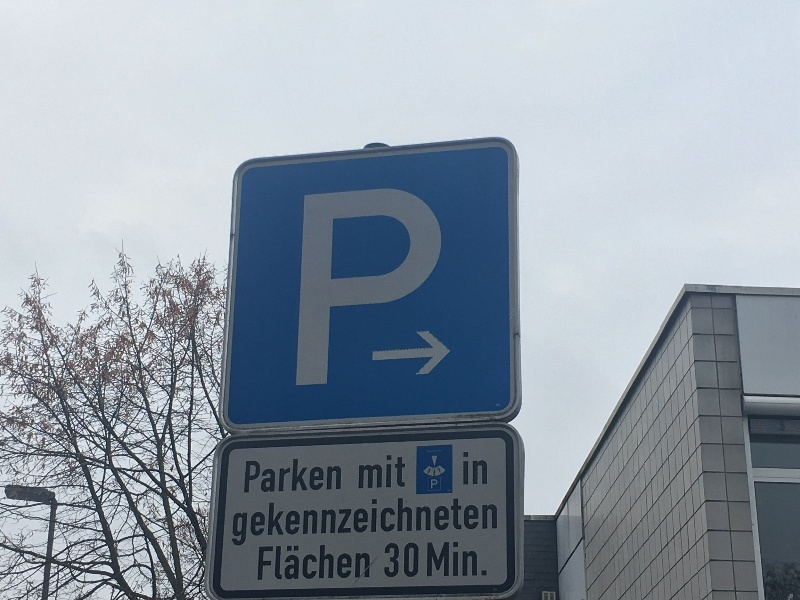text: (305, 185, 320, 388), (321, 185, 336, 388), (337, 185, 352, 388), (353, 185, 368, 388), (369, 185, 384, 388), (385, 185, 400, 388), (401, 185, 416, 388), (417, 185, 432, 388), (433, 185, 443, 388), (481, 496, 497, 547), (241, 496, 256, 547), (257, 496, 272, 547), (273, 496, 288, 547), (289, 496, 304, 547), (305, 496, 320, 547), (321, 496, 336, 547), (337, 496, 352, 547), (353, 496, 368, 547), (369, 496, 384, 547), (385, 496, 400, 547), (401, 496, 416, 547), (417, 496, 432, 547), (433, 496, 448, 547), (449, 496, 464, 547), (465, 496, 480, 547), (369, 450, 384, 490), (385, 450, 400, 490), (433, 541, 448, 579), (449, 541, 464, 579), (465, 541, 480, 579), (257, 459, 272, 495), (273, 459, 288, 495), (289, 459, 304, 495), (305, 459, 320, 495), (321, 459, 336, 495), (465, 451, 480, 486), (273, 547, 288, 582), (289, 547, 304, 582), (305, 547, 320, 582), (321, 547, 336, 582), (337, 547, 352, 582), (353, 547, 368, 582), (385, 544, 400, 578), (401, 544, 416, 578), (260, 547, 272, 582), (246, 459, 256, 495), (359, 450, 368, 490), (481, 541, 490, 579), (234, 496, 240, 547), (481, 451, 488, 486), (401, 450, 407, 490), (337, 459, 342, 495), (428, 541, 432, 579), (417, 544, 419, 578), (433, 479, 437, 489), (463, 451, 464, 486), (369, 547, 370, 582), (431, 479, 432, 489)
